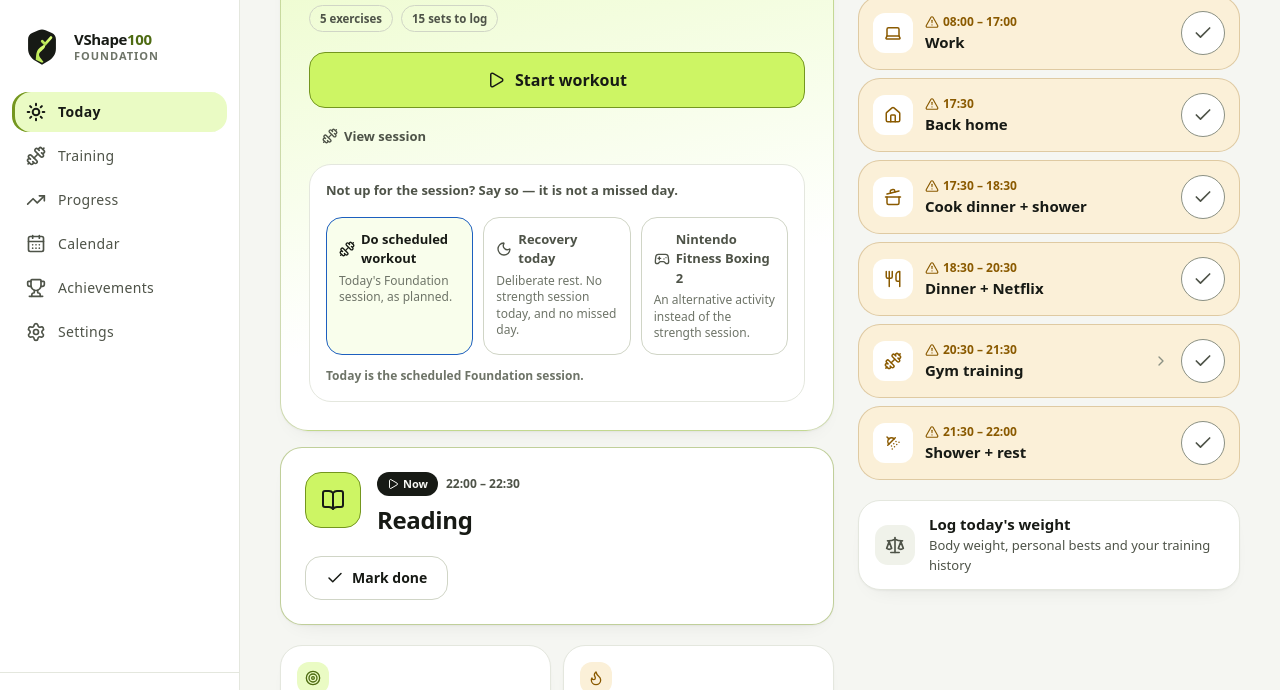
it: Today — manual completion › clears a late item out of needs-attention when completed
The width and height of the screenshot is (1280, 690).
(page scrolled)
Expected: the link "Gym training" is shown, [925,360,1024,380]
Step 1. Click the button named "Complete Gym training" → x=1203, y=361, box [1181,339,1225,383]
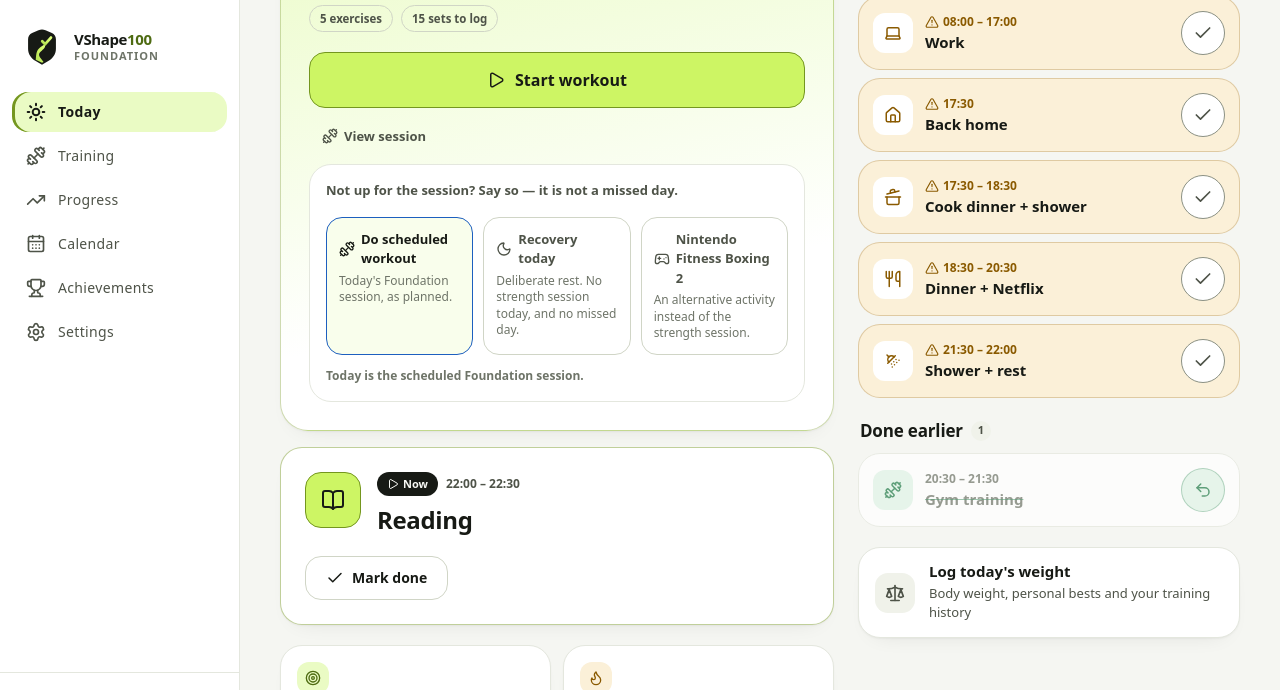
Expected: the text "Gym training" is shown, [925,489,1024,509]
Expected: the element "Done earlier" is shown, [858,418,1240,528]
